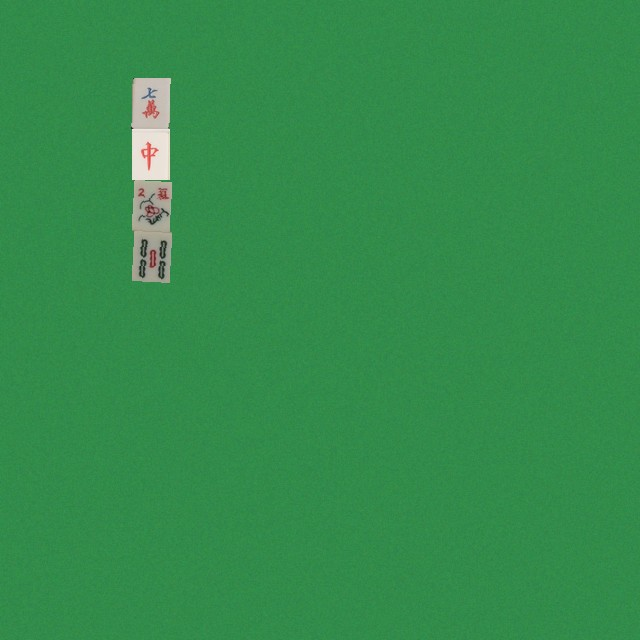tile: (131, 77, 169, 128), (131, 128, 169, 179), (131, 179, 169, 230), (131, 230, 169, 281)
